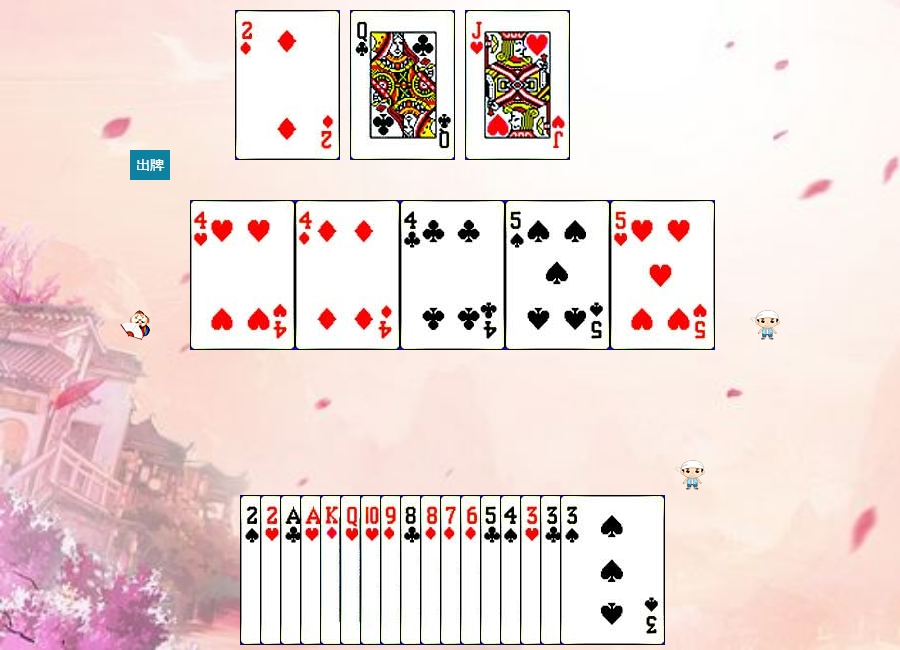10~3: (360, 495, 465, 645)
11~3: (465, 10, 570, 160)
12~2: (350, 10, 455, 160)
12~3: (340, 495, 445, 645)
13~1: (320, 495, 425, 645)
14~2: (280, 495, 385, 645)
14~3: (300, 495, 405, 645)
15~1: (235, 10, 340, 160)
15~3: (260, 495, 365, 645)
15~4: (240, 495, 345, 645)
3~2: (540, 495, 645, 645)
3~3: (520, 495, 625, 645)
3~4: (560, 495, 665, 645)
4~1: (295, 200, 400, 350)
4~2: (400, 200, 505, 350)
4~3: (190, 200, 295, 350)
4~4: (500, 495, 605, 645)
5~2: (480, 495, 585, 645)
5~3: (610, 200, 715, 350)
5~4: (505, 200, 610, 350)
6~1: (460, 495, 565, 645)
7~1: (440, 495, 545, 645)
8~1: (420, 495, 525, 645)
8~2: (400, 495, 505, 645)
9~1: (380, 495, 485, 645)
